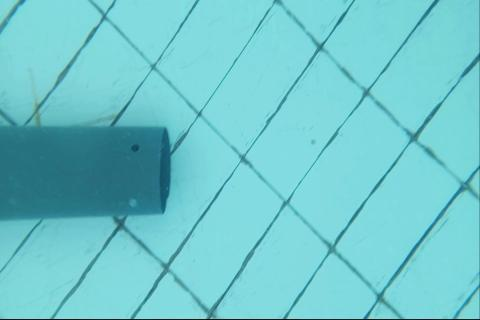kebocoran: (129, 143, 139, 152)
